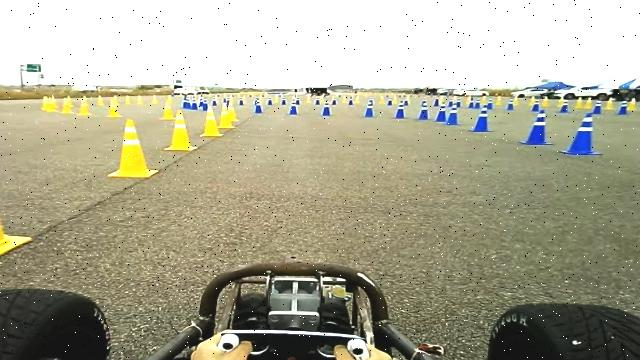blue cone: (559, 113, 603, 156), (519, 110, 554, 145), (469, 106, 494, 132), (446, 103, 462, 125), (435, 100, 447, 122), (417, 102, 429, 120), (364, 100, 376, 117), (322, 100, 334, 116), (396, 101, 404, 120)
yellow cone: (0, 146, 33, 262), (108, 118, 159, 178), (164, 110, 198, 151), (200, 105, 224, 137), (218, 101, 235, 129), (227, 99, 239, 122)
